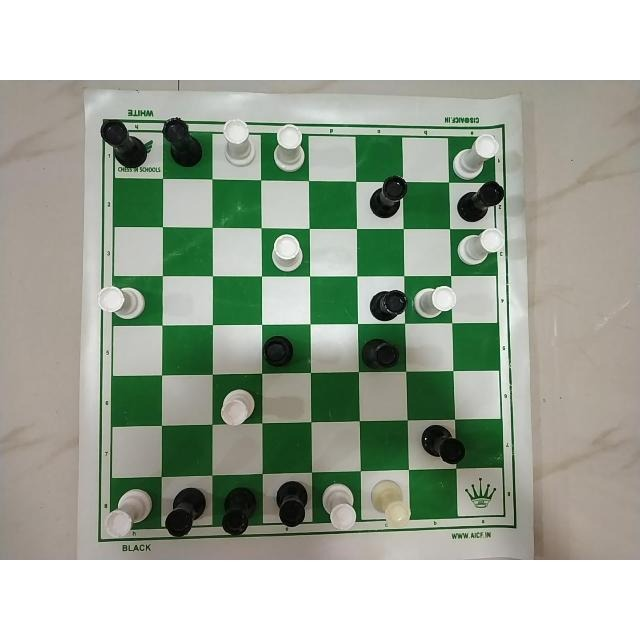black-rook: (97, 119, 153, 171), (160, 116, 206, 170), (415, 423, 471, 467), (266, 477, 313, 529), (163, 481, 206, 537), (215, 485, 258, 537), (456, 180, 504, 224), (366, 174, 410, 218), (366, 283, 410, 323), (361, 332, 404, 371), (259, 333, 301, 371)
white-rook: (104, 484, 154, 537), (268, 118, 310, 176), (370, 477, 416, 529), (318, 480, 358, 535), (457, 226, 504, 270), (453, 137, 503, 176), (95, 283, 149, 319), (221, 115, 254, 171), (414, 282, 455, 325), (217, 381, 256, 425), (268, 230, 304, 272)
